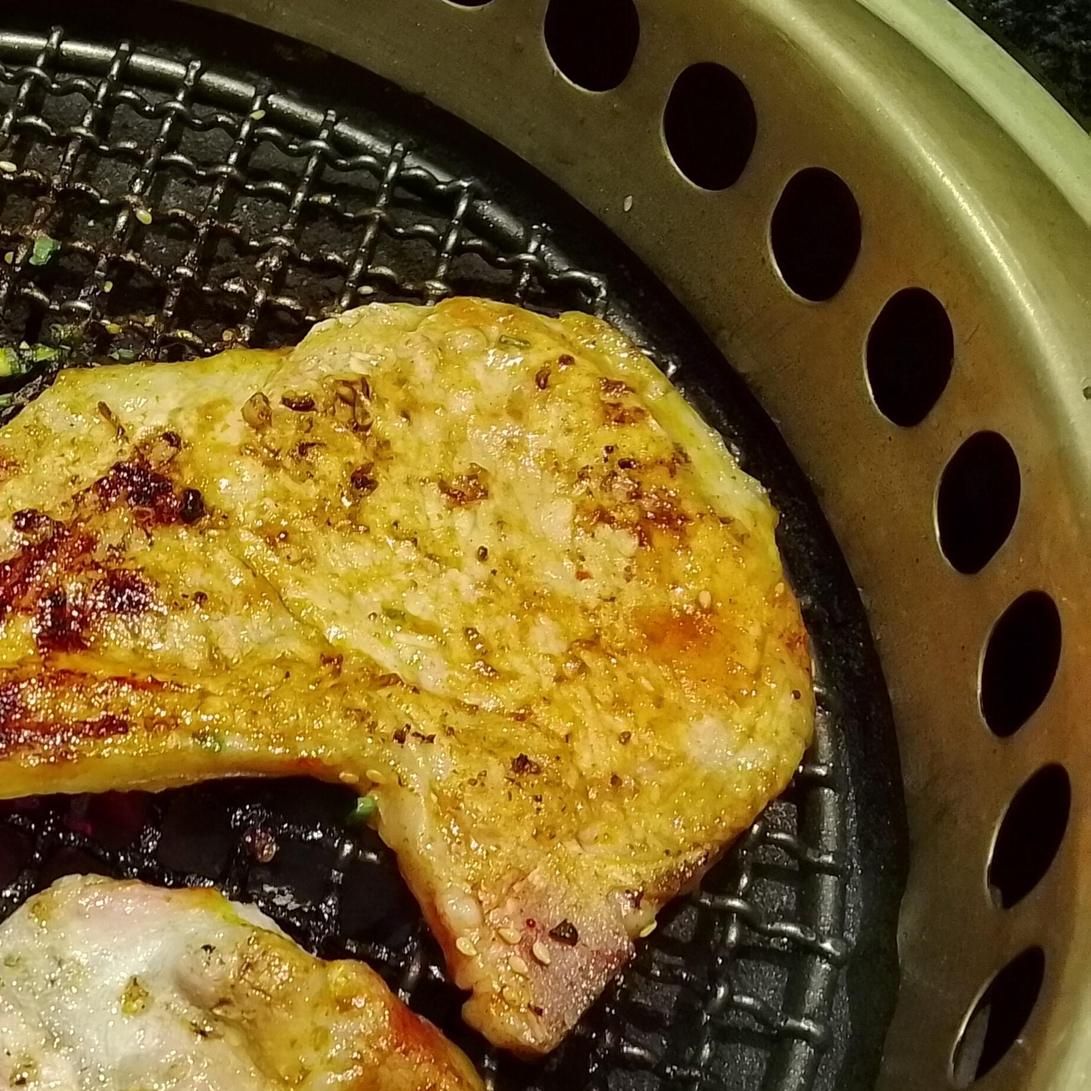Well-Cooked: (0, 296, 815, 1036), (0, 875, 489, 1090)
